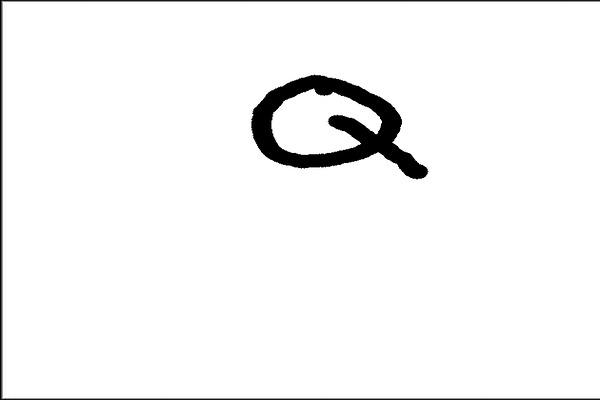Q: (234, 66, 433, 190)
